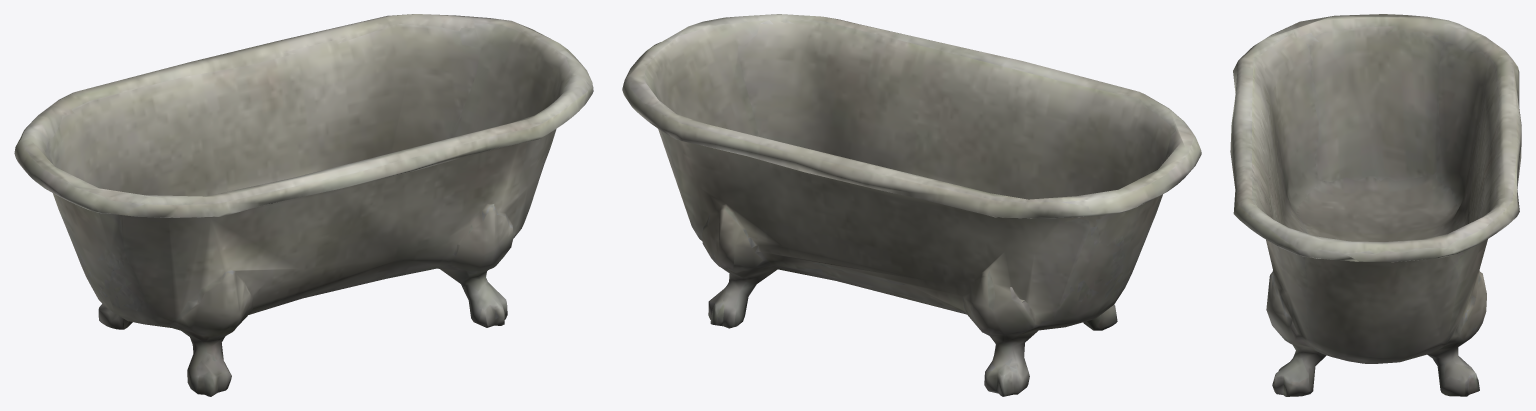
File: rustic-white-painted-bathtub-v001.glb
3 views of the same model, side by side, from view 1: azimuth 30°, elevation 25°; view 2: azimuth 150°, elevation 25°; view 3: azimuth 270°, elevation 25° (orthographic). The views are drawn at different scales.
Parts seen in each view (by area): view 1: rustic-white-painted-bathtub; view 2: rustic-white-painted-bathtub; view 3: rustic-white-painted-bathtub.
Boxes of the visible parts, left/top/right/bottom form: rustic-white-painted-bathtub: left=14, top=14, right=593, bottom=396; rustic-white-painted-bathtub: left=622, top=14, right=1201, bottom=396; rustic-white-painted-bathtub: left=1230, top=14, right=1521, bottom=396.
Bounding box in the file's own units: 1.91 × 0.7474 × 0.9884.
1 material, 1 textured.
